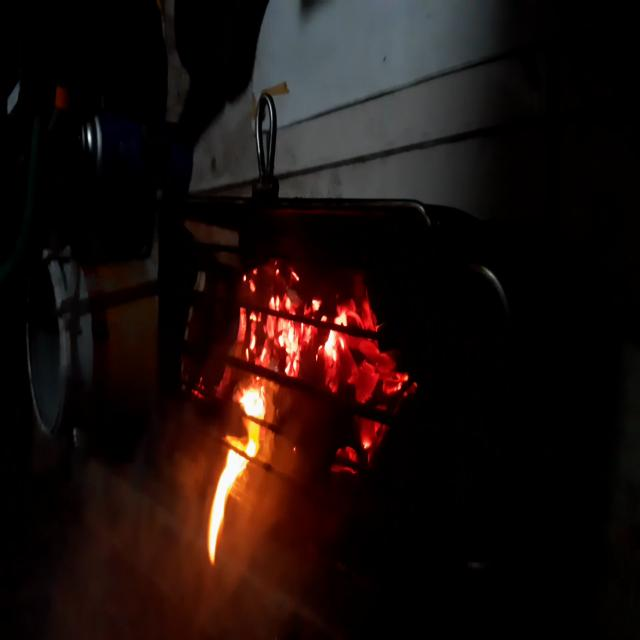Fire: (228, 250, 428, 402), (189, 428, 278, 569), (324, 412, 420, 501)
